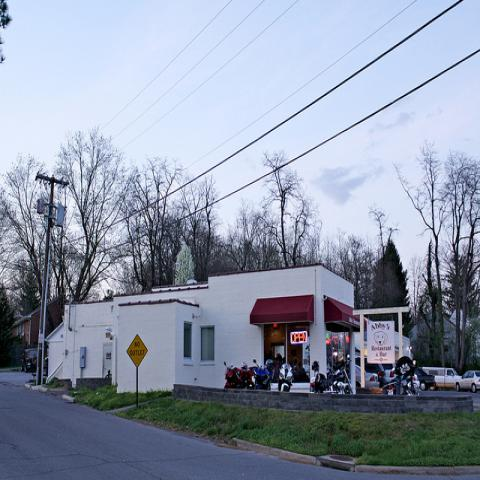car: (454, 369, 480, 393), (355, 364, 380, 388), (415, 368, 436, 391), (21, 348, 37, 373), (400, 373, 420, 389), (384, 362, 396, 384)
motorcycle: (310, 355, 354, 395), (386, 357, 418, 396), (224, 362, 255, 390), (250, 365, 272, 389), (277, 364, 294, 392)
truck: (423, 368, 459, 390)
